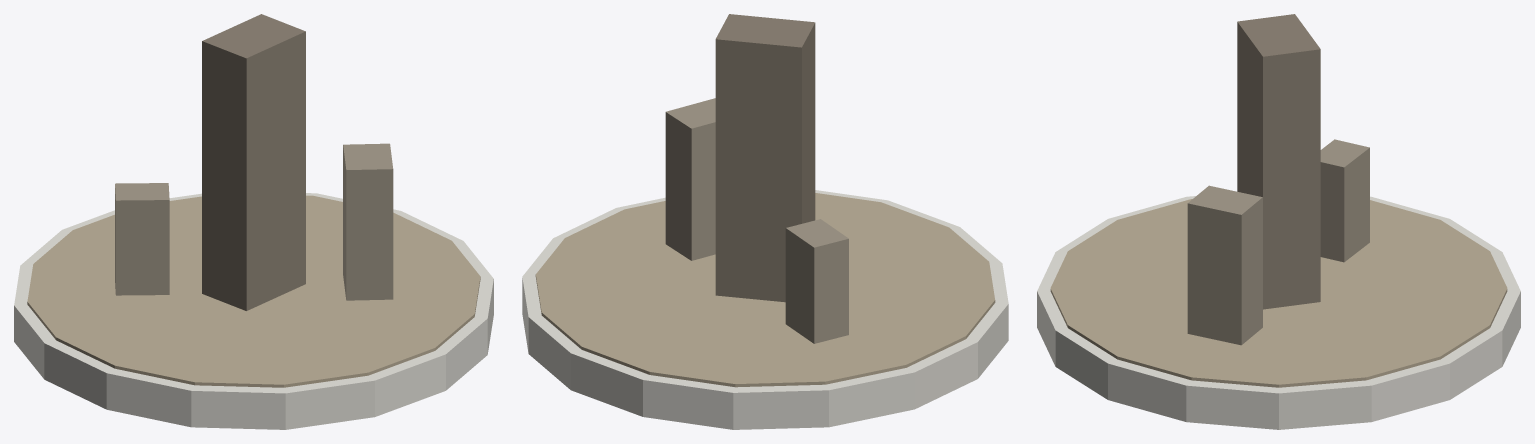
Rendered from rb_monolith.glb.
3 views of the same model, side by side, from view 1: azimuth 30°, elevation 25°; view 2: azimuth 150°, elevation 25°; view 3: azimuth 270°, elevation 25° (orthographic).
Visible parts, largest first — view 1: rb_monolith_lod0; view 2: rb_monolith_lod0; view 3: rb_monolith_lod0.
Part boxes in pixels (x1,y1,x2,y2): rb_monolith_lod0: [14, 14, 493, 429]; rb_monolith_lod0: [522, 14, 1008, 429]; rb_monolith_lod0: [1037, 14, 1520, 429].
Size of what is drawn, in the model's own units: 7.2 by 4.8 by 7.2.
